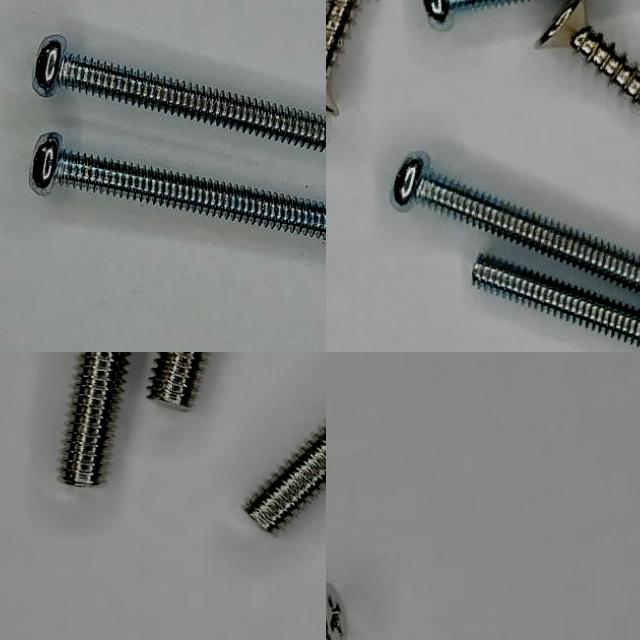Screw: (393, 153, 640, 295), (33, 35, 326, 151), (30, 134, 326, 241), (473, 256, 640, 347), (537, 0, 640, 107), (60, 352, 130, 485), (60, 352, 128, 486), (245, 424, 326, 531), (326, 0, 357, 115), (149, 352, 204, 408)
